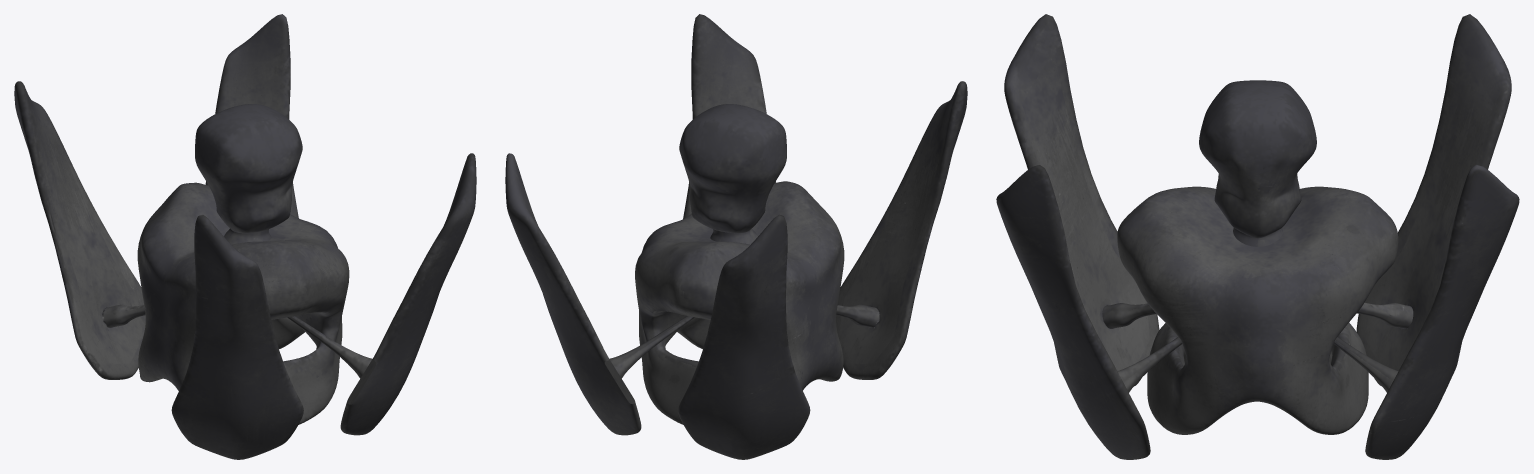
Rendered from bot.gltf.
The picture shows the model from 3 angles, left to right: view 1: azimuth 30°, elevation 25°; view 2: azimuth 150°, elevation 25°; view 3: azimuth 270°, elevation 25°; orthographic projection. The views are drawn at different scales.
Visible parts, largest first — view 1: bot; view 2: bot; view 3: bot.
Boxes of the visible parts, x1,y1,x2,y2 form: bot: (14, 14, 476, 459); bot: (505, 14, 967, 459); bot: (996, 14, 1519, 459).
Size of the model in its own units: 2.45 by 2.49 by 3.51.
Materials: 1 (1 with a texture image).
